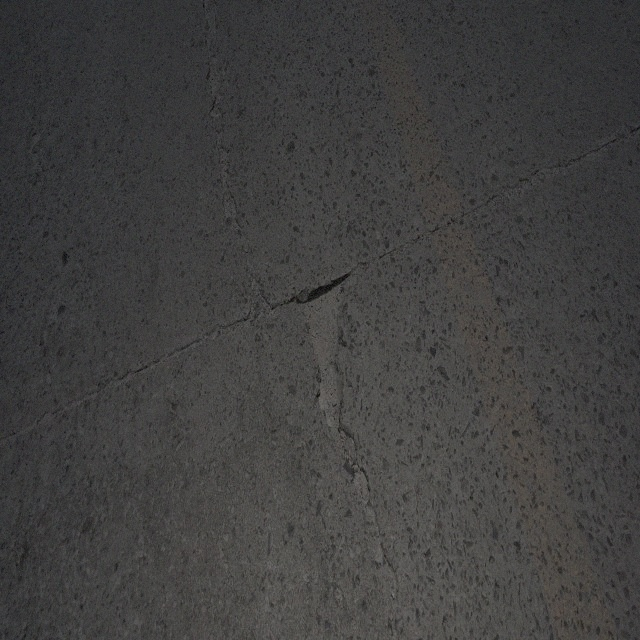pothole: (194, 28, 246, 238), (292, 263, 348, 432), (332, 417, 381, 528), (247, 274, 278, 324)
